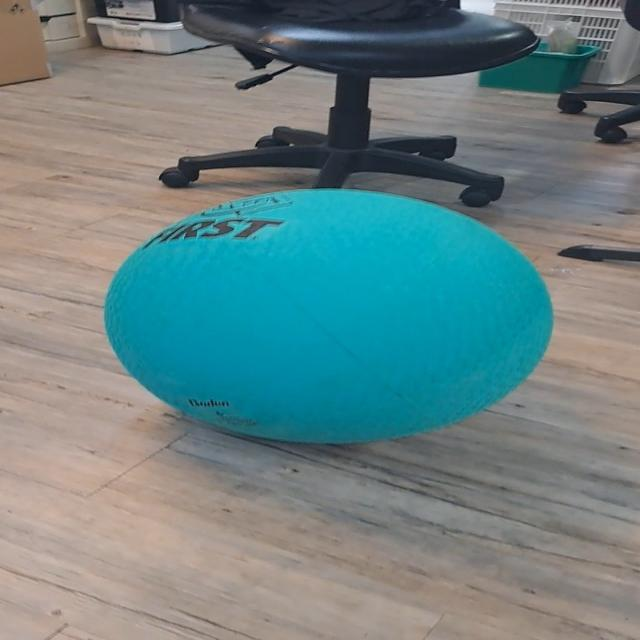ALGAE: (100, 186, 554, 446)
